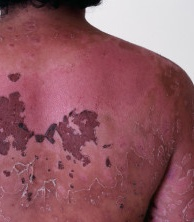SJS-TEN: (0, 12, 193, 221)
